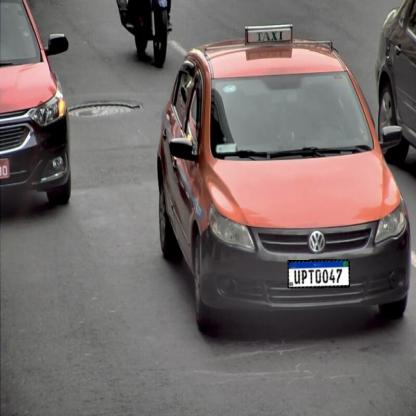PlacaM: (288, 260, 350, 288)
